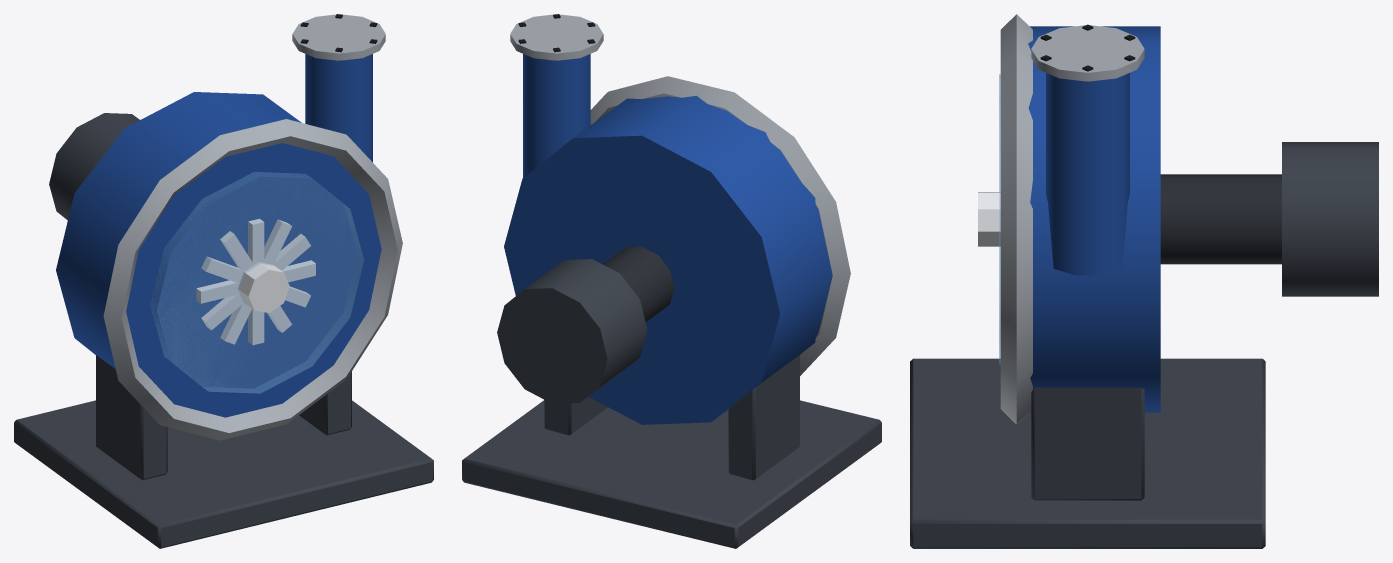
Rendered from turbine_impeller_housing.glb.
3 views of the same model, side by side, from view 1: azimuth 30°, elevation 25°; view 2: azimuth 150°, elevation 25°; view 3: azimuth 270°, elevation 25° (orthographic). The views are drawn at different scales.
Parts seen in each view (by area): view 1: turbine_impeller_housing; view 2: turbine_impeller_housing; view 3: turbine_impeller_housing.
Boxes of the visible parts, left/top/right/bottom form: turbine_impeller_housing: left=14, top=14, right=433, bottom=548; turbine_impeller_housing: left=462, top=14, right=881, bottom=548; turbine_impeller_housing: left=910, top=14, right=1378, bottom=548.
Bounding box in the file's own units: 1.33 × 1.67 × 1.45.
